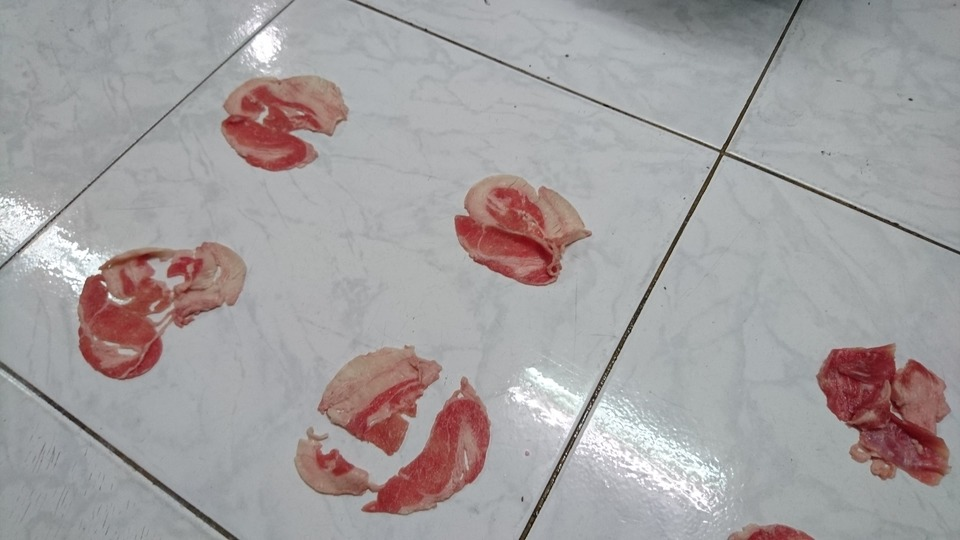restructured meat: (283, 343, 492, 518), (75, 237, 253, 386), (815, 344, 960, 487), (450, 167, 587, 289), (224, 73, 349, 177)
